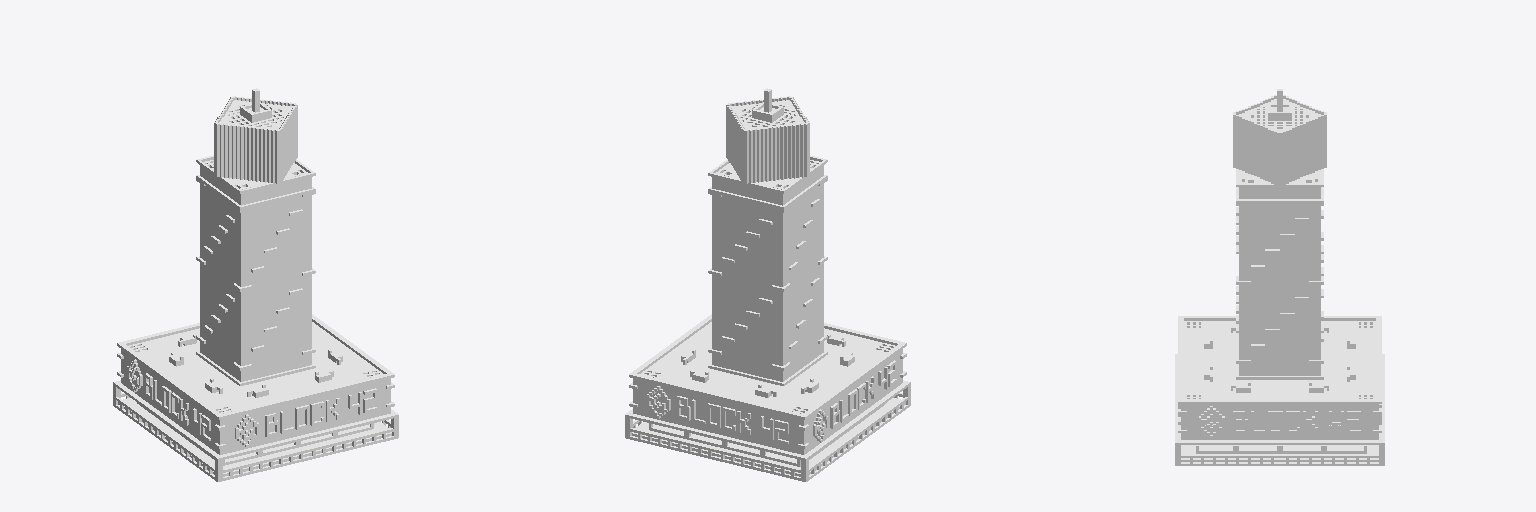
Rendered from Block+42_2.obj.
The picture shows the model from 3 angles: view 1: azimuth 30°, elevation 25°; view 2: azimuth 150°, elevation 25°; view 3: azimuth 270°, elevation 25°; orthographic projection.
Bounding box in the file's own units: 72 × 126 × 72.